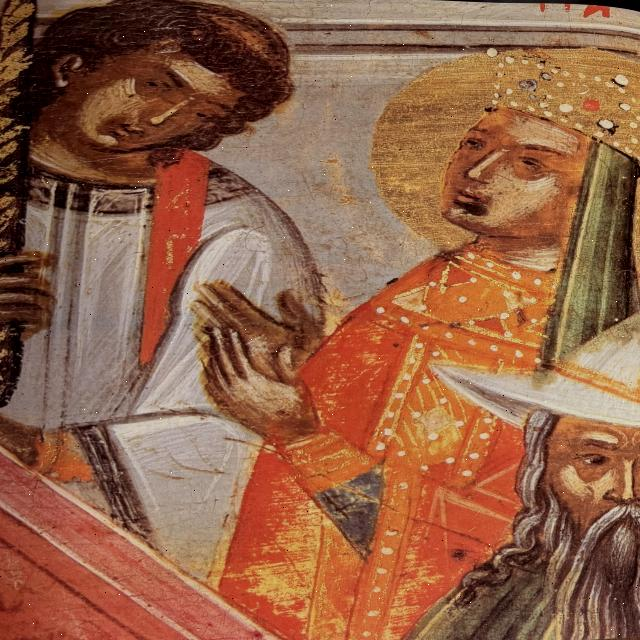aura: (368, 50, 640, 266)
